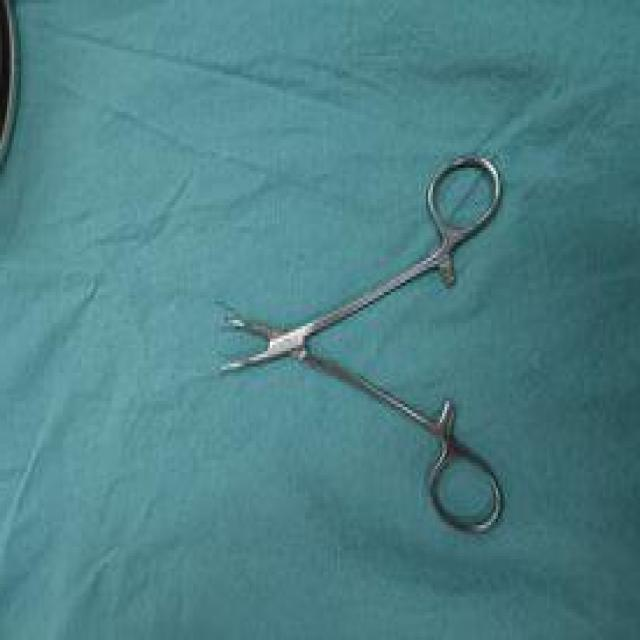Hemostat: (210, 146, 510, 544)
